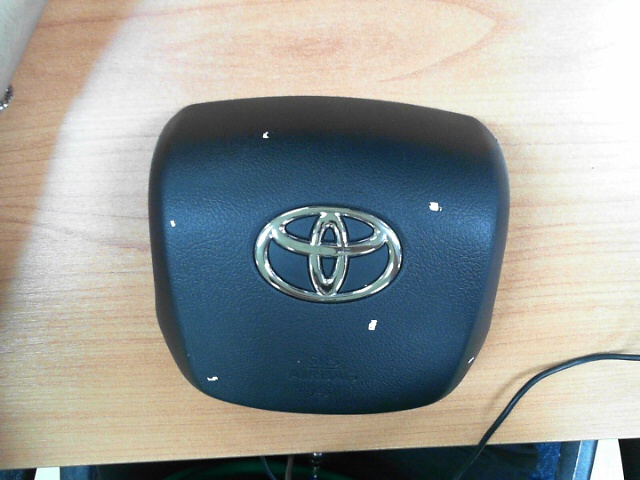Airbag: (428, 200, 444, 213), (367, 319, 379, 331), (206, 375, 220, 383), (262, 131, 270, 138), (468, 357, 474, 364), (170, 220, 176, 227)
